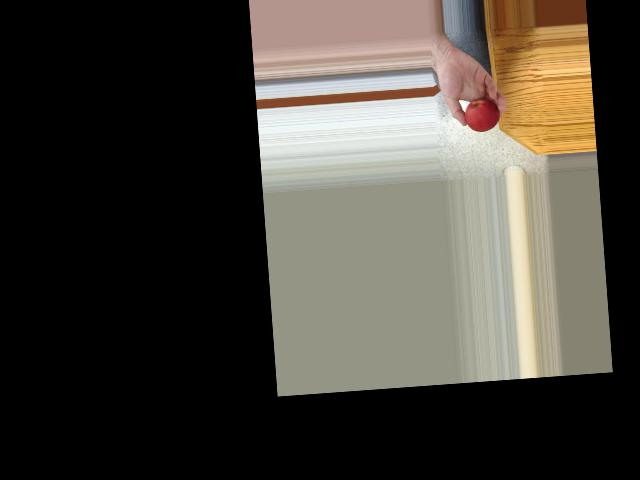apple: (462, 94, 501, 132)
